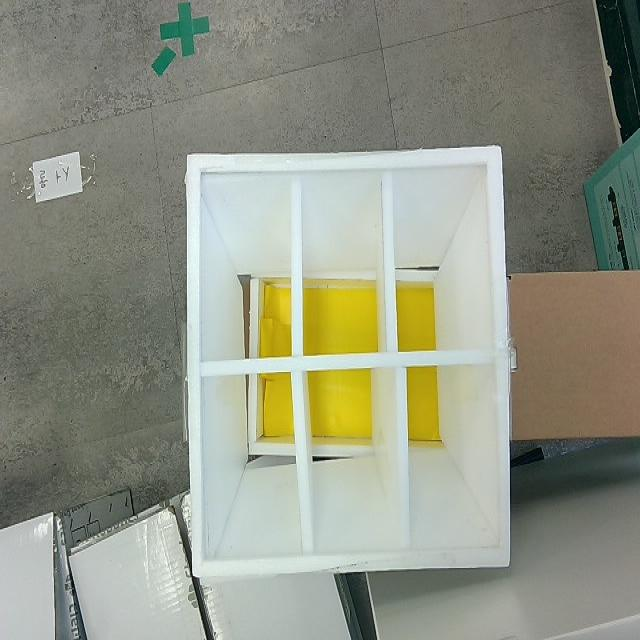box: (184, 145, 511, 579)
